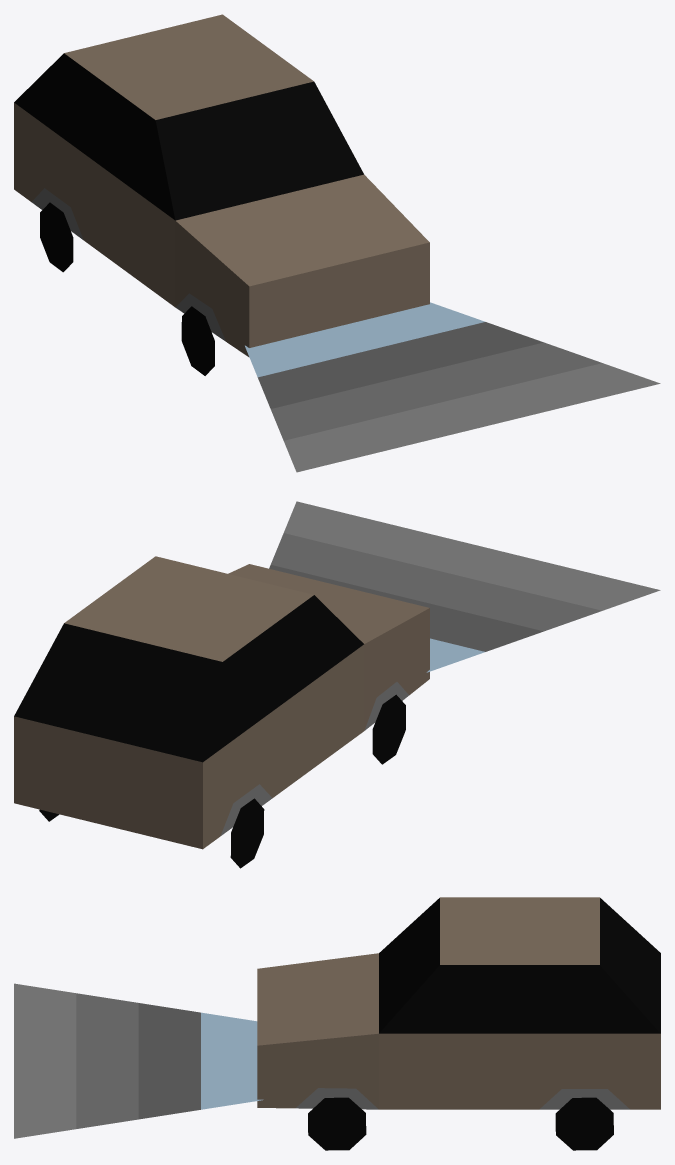
Rendered from AUTO.glb.
3 renders of one model, top to bottom at view 1: azimuth 30°, elevation 25°; view 2: azimuth 150°, elevation 25°; view 3: azimuth 270°, elevation 25°, orthographic. The views are drawn at different scales.
Visible parts, largest first — view 1: AUTO | archived geometry; view 2: AUTO | archived geometry; view 3: AUTO | archived geometry.
Boxes of the visible parts, box(x1,y1,x2,y2) form: AUTO | archived geometry: box(14, 14, 660, 472); AUTO | archived geometry: box(14, 501, 660, 868); AUTO | archived geometry: box(14, 897, 660, 1150).
Size of the model in its own units: 3.33 by 1.78 by 5.86.
